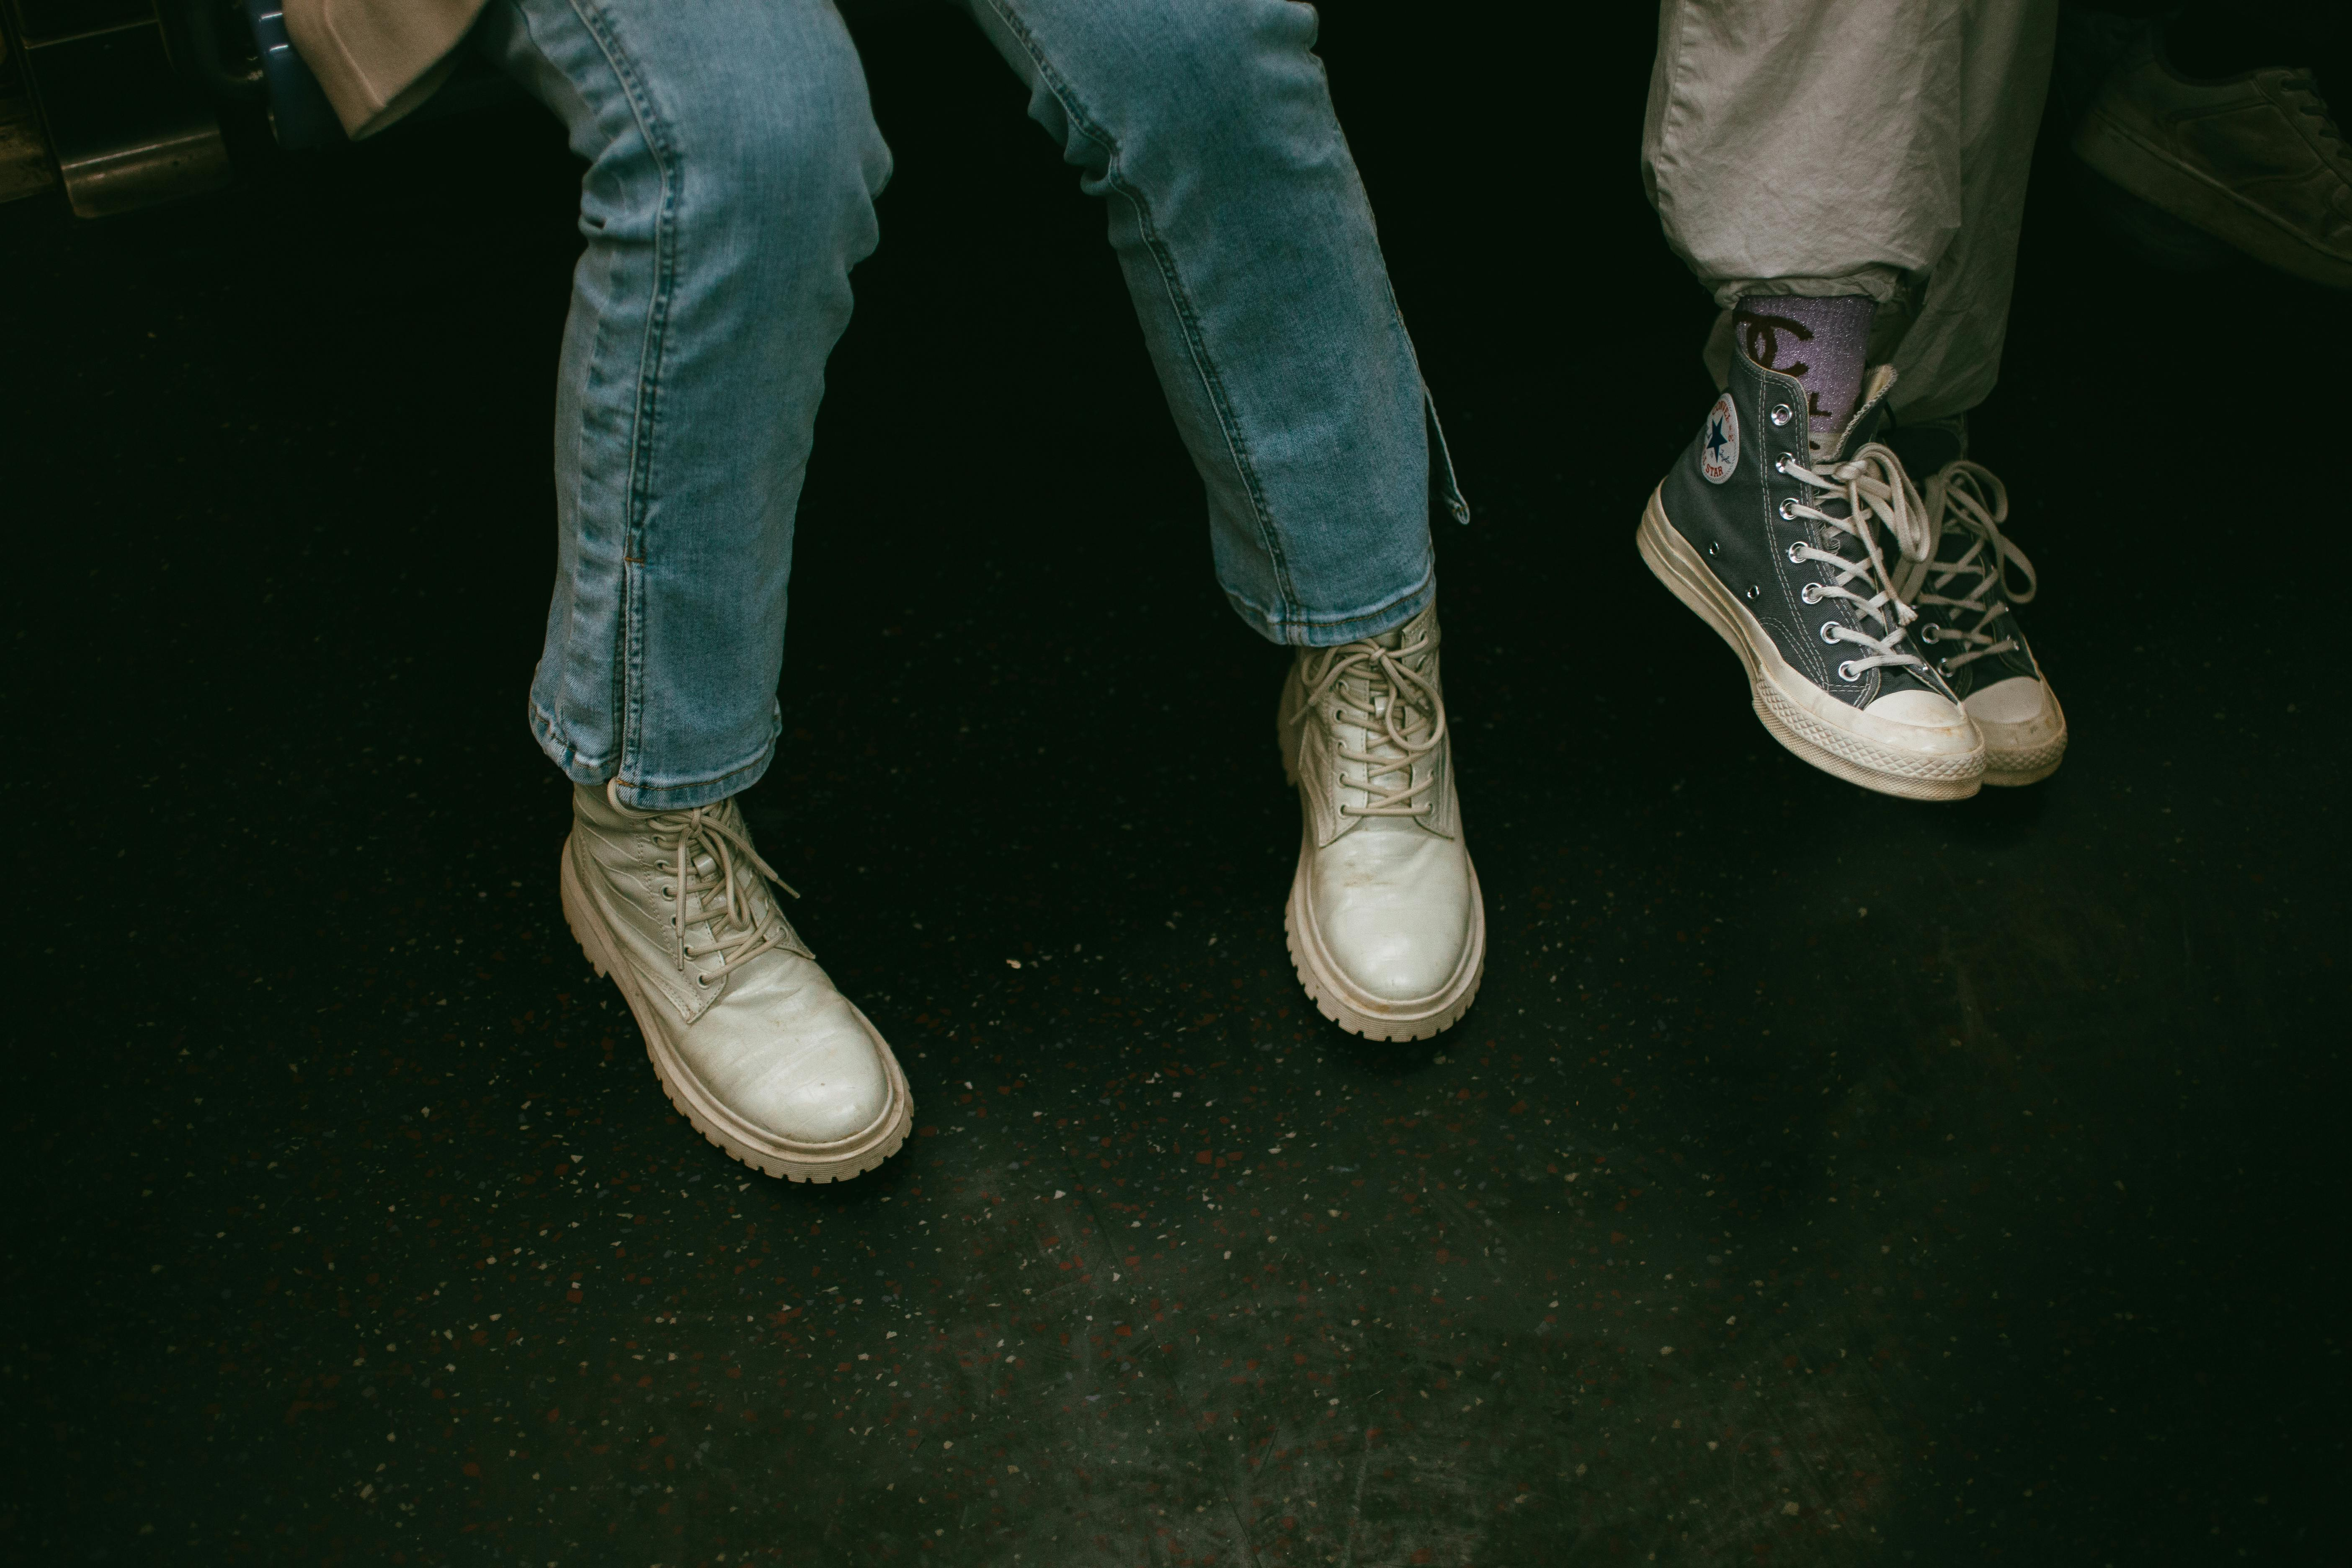Footwear: (1652, 364, 2116, 840), (501, 784, 948, 1220), (1253, 630, 1524, 1064)
